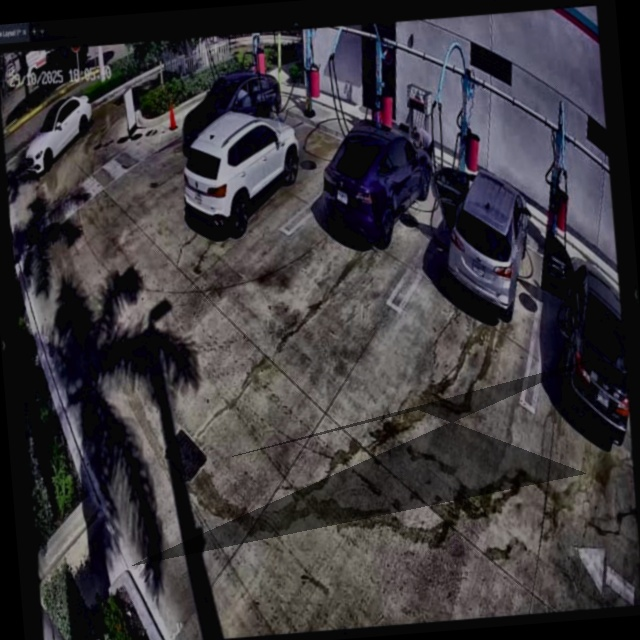Car: (433, 160, 536, 323), (316, 116, 435, 251), (184, 112, 305, 239), (178, 71, 286, 150)
